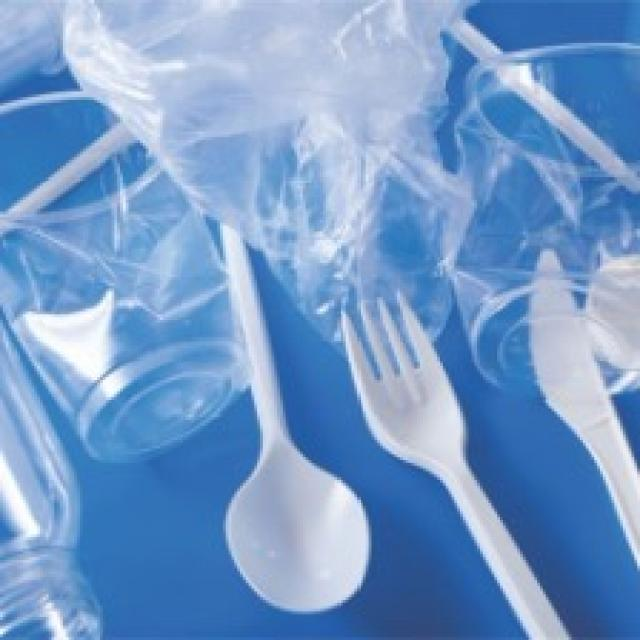plastic: (317, 296, 597, 639), (1, 110, 204, 462), (189, 211, 360, 595)
plastic_bag: (64, 5, 482, 314)
